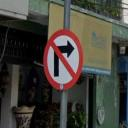NoVirarDireita: (40, 26, 86, 93)
